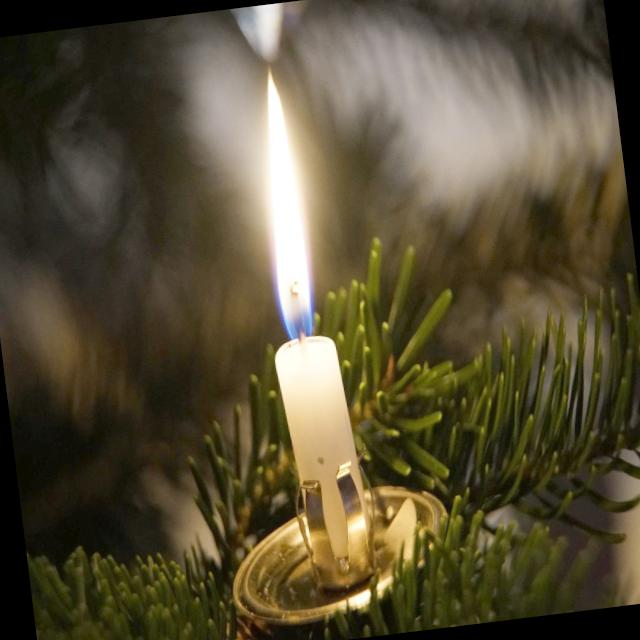Fire_Save: (237, 56, 380, 594)
